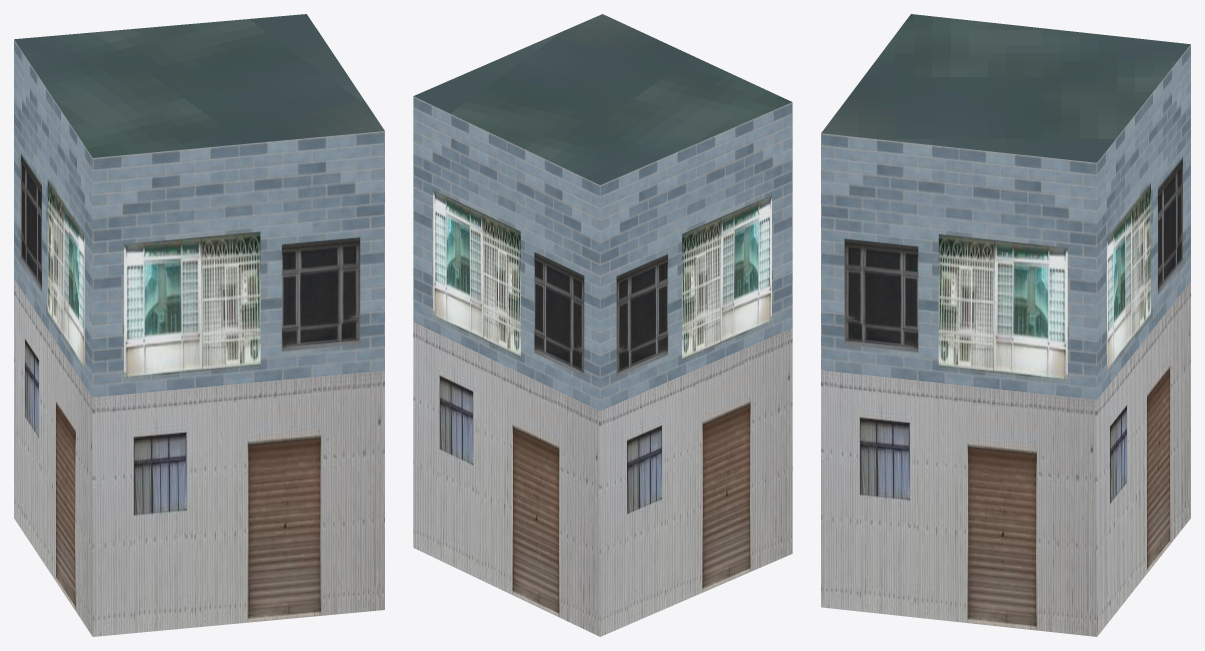
Rendered from T_1T5R54NUCQ.dae.
3 views of the same model, side by side, from view 1: azimuth 30°, elevation 25°; view 2: azimuth 150°, elevation 25°; view 3: azimuth 270°, elevation 25° (orthographic). The views are drawn at different scales.
Parts seen in each view (by area): view 1: SketchUp (×3); view 2: SketchUp (×3); view 3: SketchUp (×3).
Part boxes in pixels (x1,y1,x2,y2): SketchUp (×3): (14, 14, 384, 636); SketchUp (×3): (413, 14, 792, 636); SketchUp (×3): (821, 14, 1190, 636).
Size of the model in its own units: 175 by 184 by 260.
Materials: 3 (3 with a texture image).
